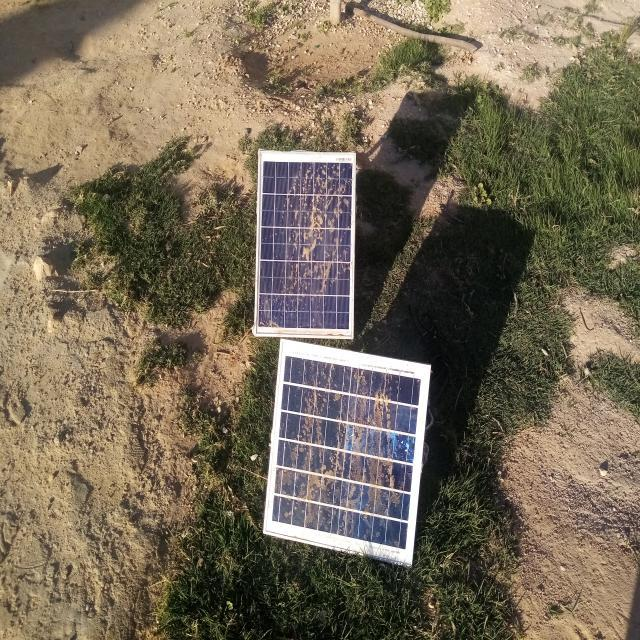faulty: (264, 341, 430, 569), (255, 151, 356, 338)
